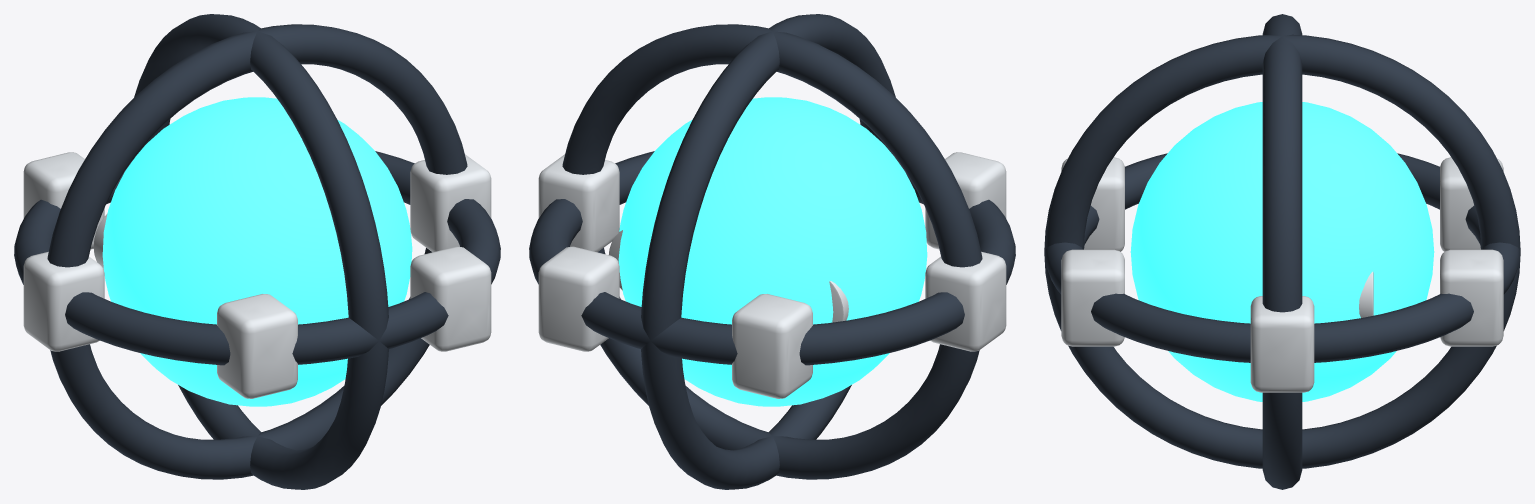
Rendered from powerup_missiles.glb.
3 views of the same model, side by side, from view 1: azimuth 30°, elevation 25°; view 2: azimuth 150°, elevation 25°; view 3: azimuth 270°, elevation 25° (orthographic). The views are drawn at different scales.
Visible parts, largest first — view 1: ASSET_powerup_missiles; view 2: ASSET_powerup_missiles; view 3: ASSET_powerup_missiles.
Part boxes in pixels (x1,y1,x2,y2): ASSET_powerup_missiles: (14,14,500,489); ASSET_powerup_missiles: (529,14,1015,489); ASSET_powerup_missiles: (1044,14,1520,489).
Size of the model in its own units: 1.65 by 1.57 by 1.57.
